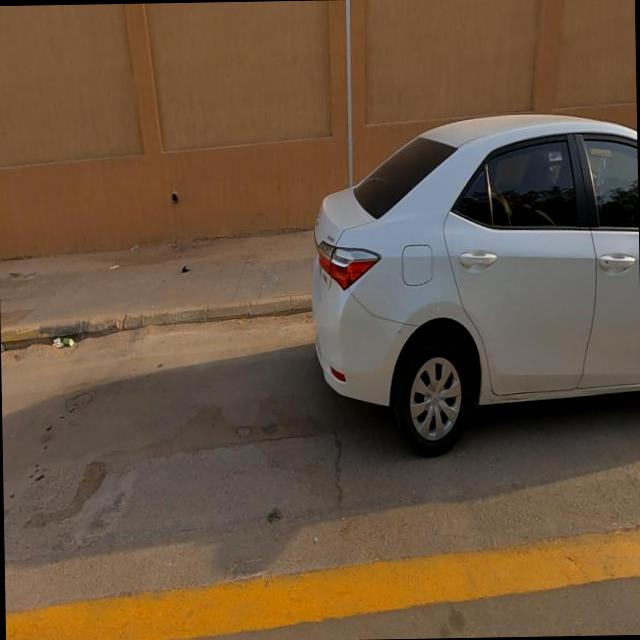debris: (32, 308, 104, 387)
